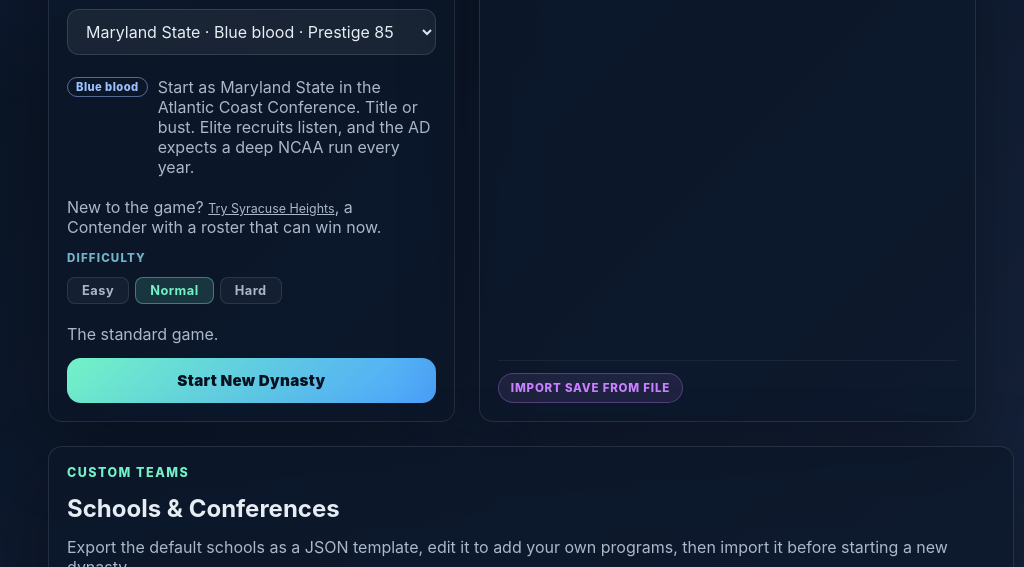
Desktop App › spends a head coach ability point on the Staff screen
(page scrolled)
Click the button "Start New Dynasty" at (251, 380), box [67,358,436,403]
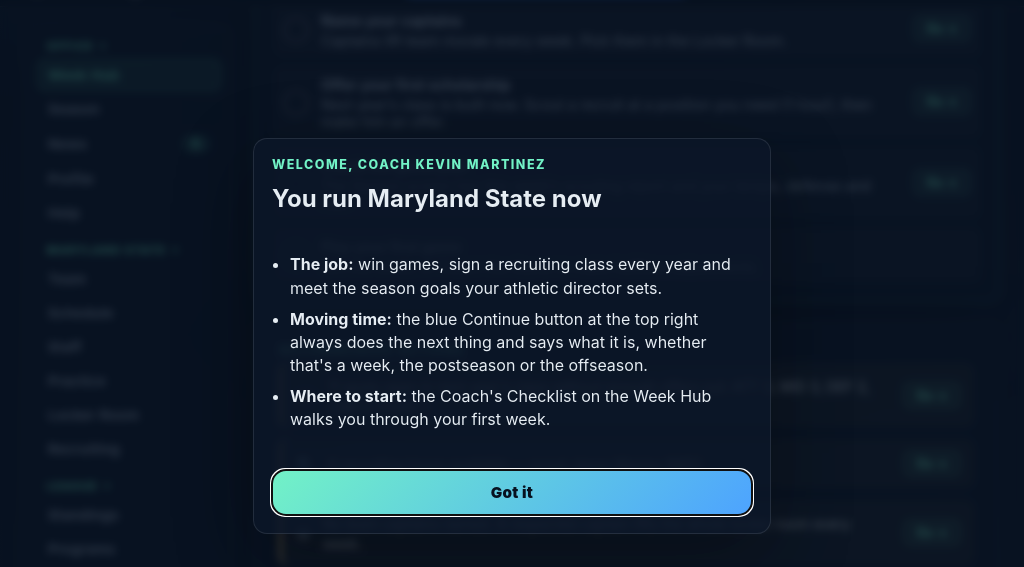
Click the button "Got it" at (512, 492), box [272,470,752,515]
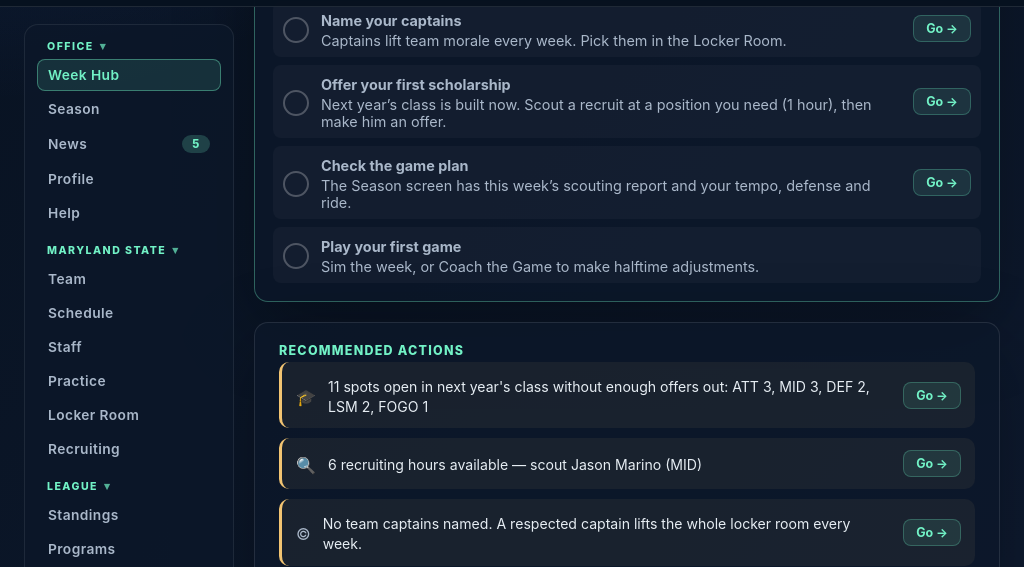
Click the button "Staff" at (129, 347), box [37,331,221,363]
(page scrolled)
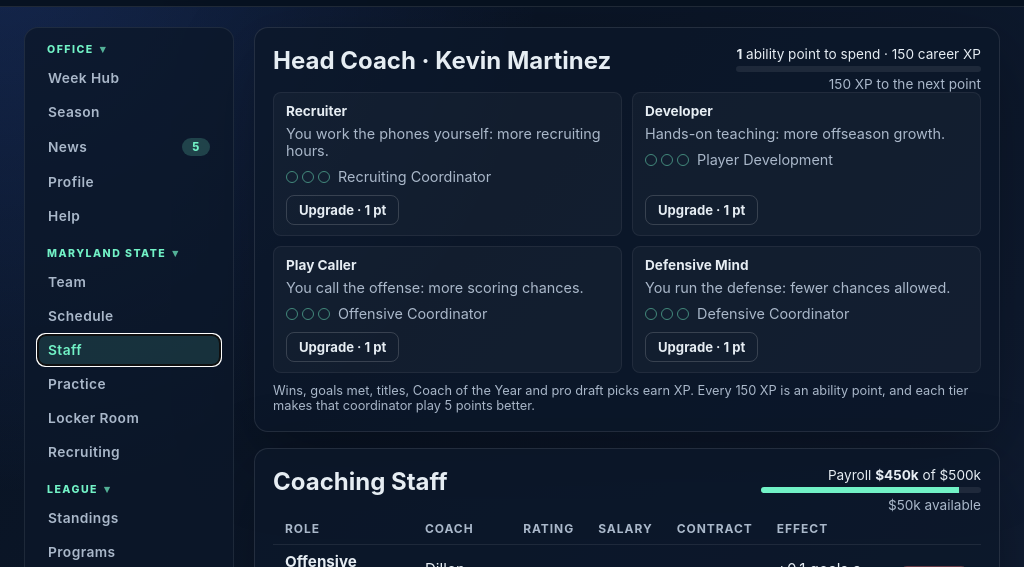
Check: the text "1 ability point to spend · 150 career XP" is shown, box [736,46,981,62]
Click the button with aria-label "Upgrade Recruiter" at (343, 210), box [286,195,399,225]
(page scrolled)
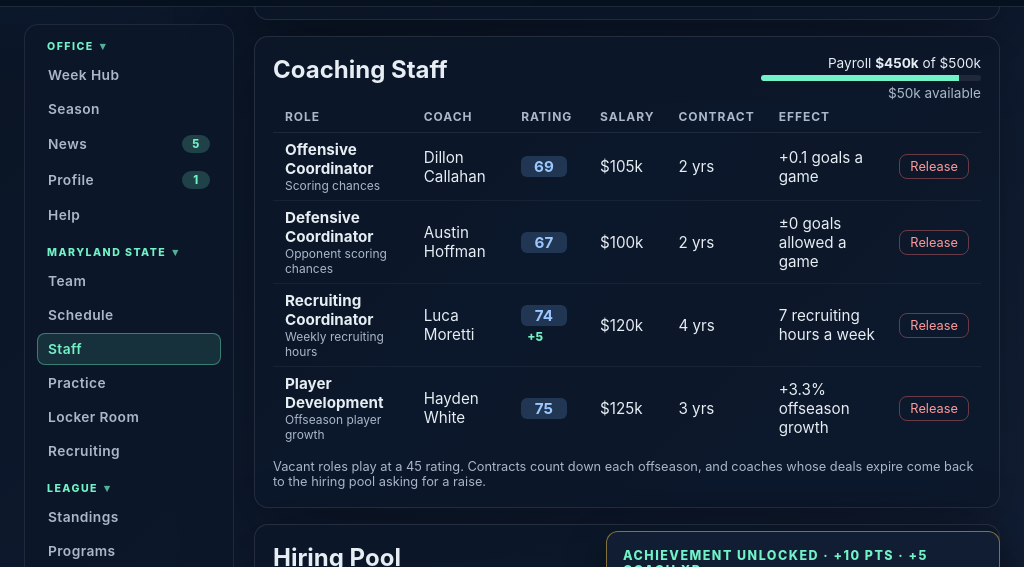
Check: the text "+5" is shown, box [527,329,543,344]
